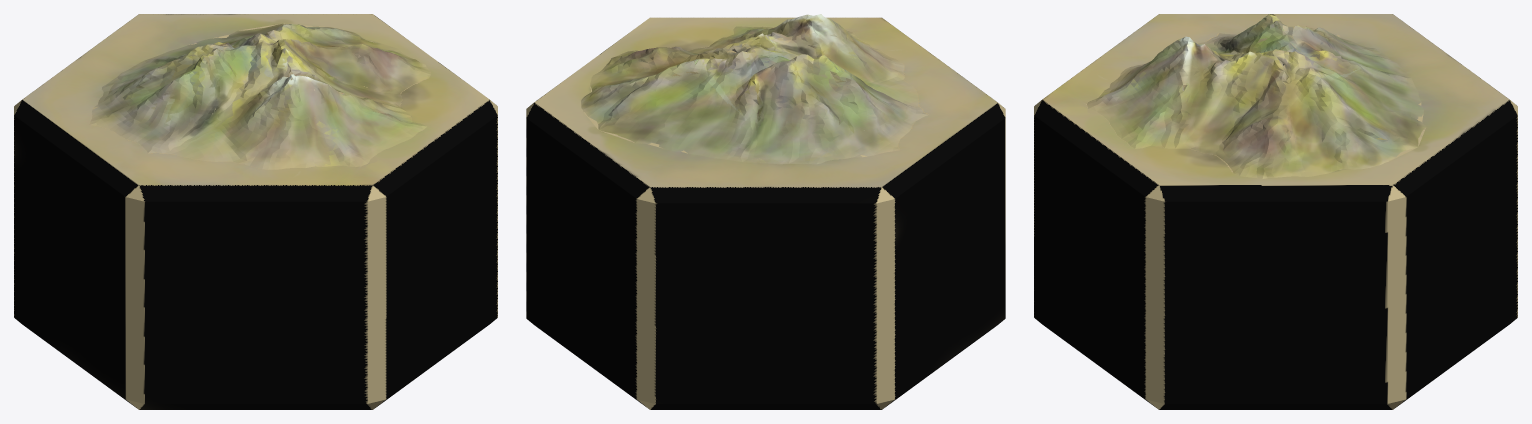
The model's file is White.02.fbx.
3 views of the same model, side by side, from view 1: azimuth 30°, elevation 25°; view 2: azimuth 150°, elevation 25°; view 3: azimuth 270°, elevation 25° (orthographic).
Visible parts, largest first — view 1: 02.White; view 2: 02.White; view 3: 02.White.
Part boxes in pixels (x1=…): 02.White: x1=14, y1=14, x2=497, y2=409; 02.White: x1=526, y1=14, x2=1005, y2=409; 02.White: x1=1034, y1=14, x2=1517, y2=409.
Size of the model in its own units: 173 by 126 by 195.
1 material, 1 textured.
